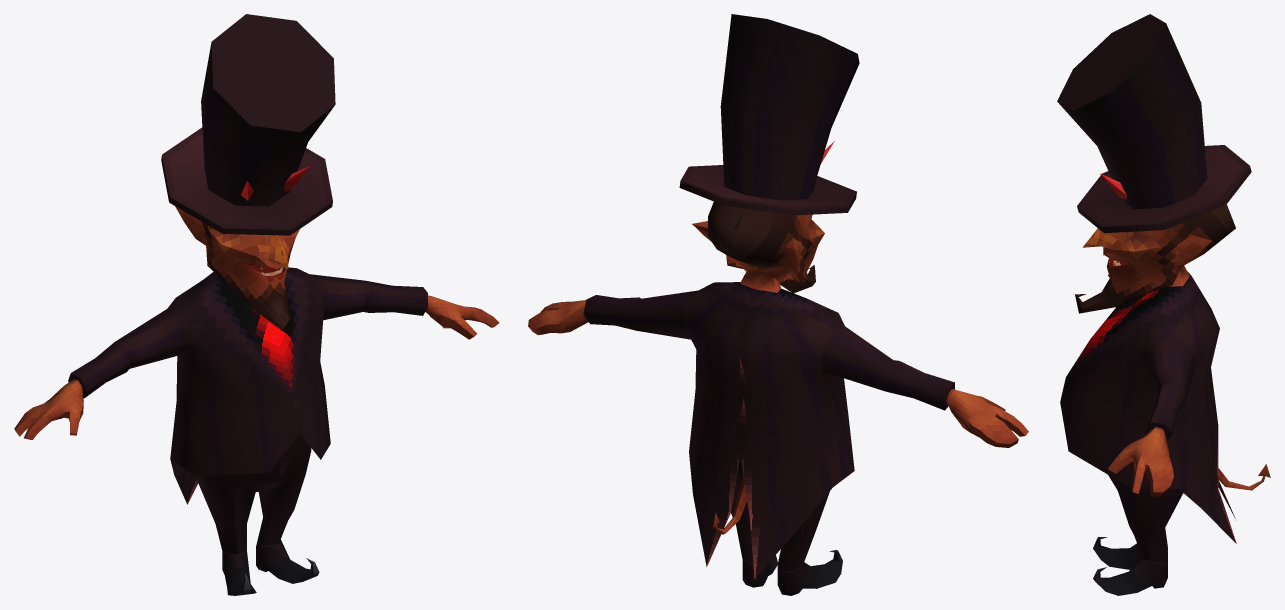
The model's file is Devil.fbx.
3 renders of one model, left to right at view 1: azimuth 30°, elevation 25°; view 2: azimuth 150°, elevation 25°; view 3: azimuth 270°, elevation 25°, orthographic. The views are drawn at different scales.
Visible parts, largest first — view 1: Devil, DevilHat; view 2: Devil, DevilHat; view 3: Devil, DevilHat.
Boxes of the visible parts, x1,y1,x2,y2 form: Devil: (14,165,499,595); DevilHat: (161,14,335,235); Devil: (528,141,1028,595); DevilHat: (679,14,859,215); Devil: (1060,173,1270,595); DevilHat: (1057,14,1251,233).
Size of the model in its own units: 7.04 by 7.86 by 2.75.
